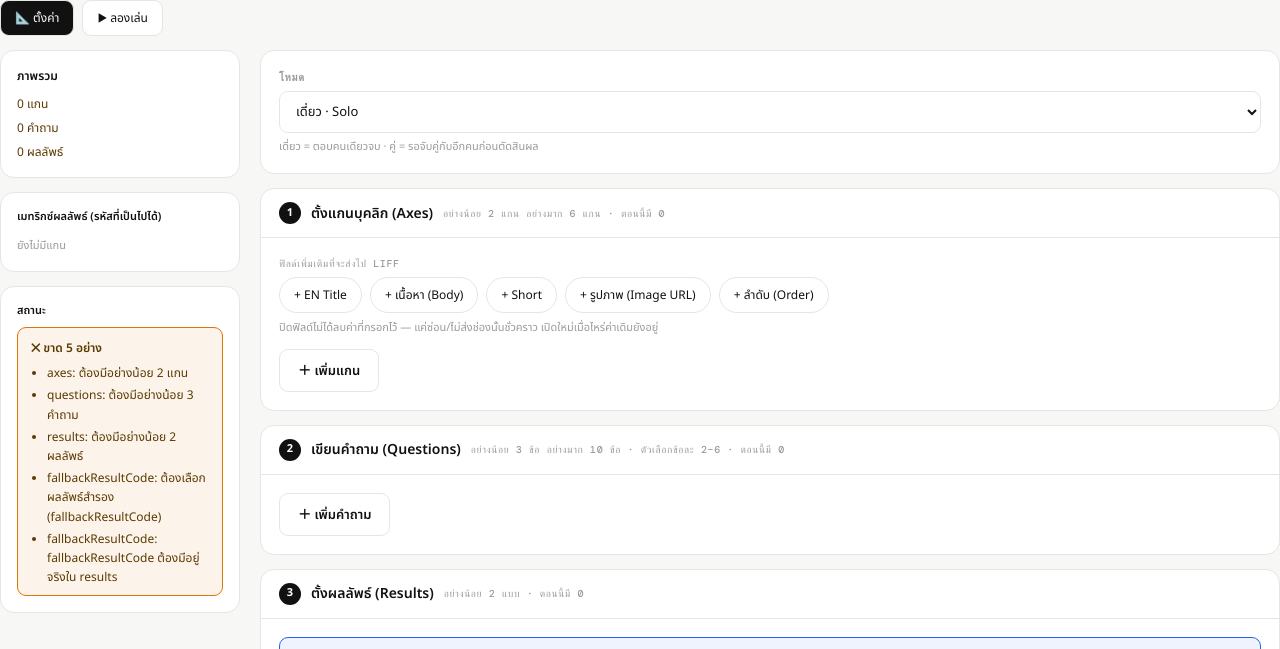
it: ฟิลด์เสริมของแกน (labelEn/body/short/imageUrl/order) — ปุ่ม toggle ระดับทั้งลิสต์ › พิมพ์ค่าใน EN Title แล้วปิดปุ่ม toggle — ช่องหายไปแต่ค่าที่กรอกไว้ยังอยู่ใน config ที่จะส่ง
Click the button "＋ เพิ่มแกน" at (329, 370), box [279,349,379,392]
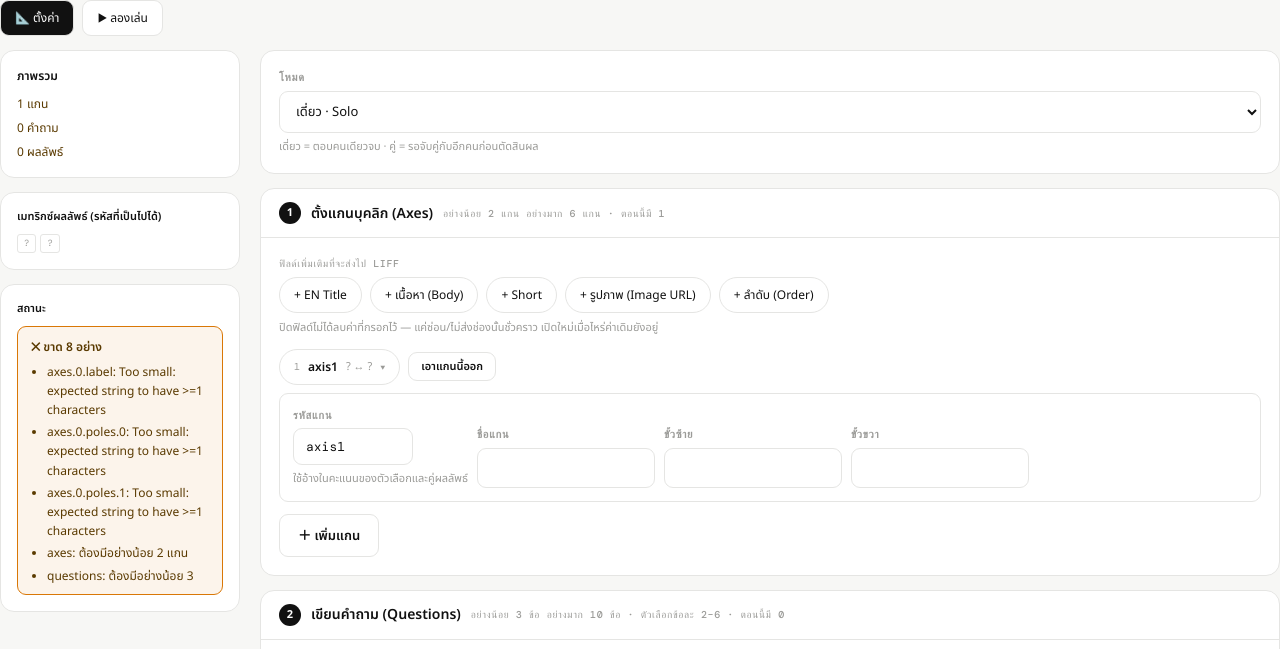
Click the button "+ EN Title" at (320, 295), box [279,277,362,313]
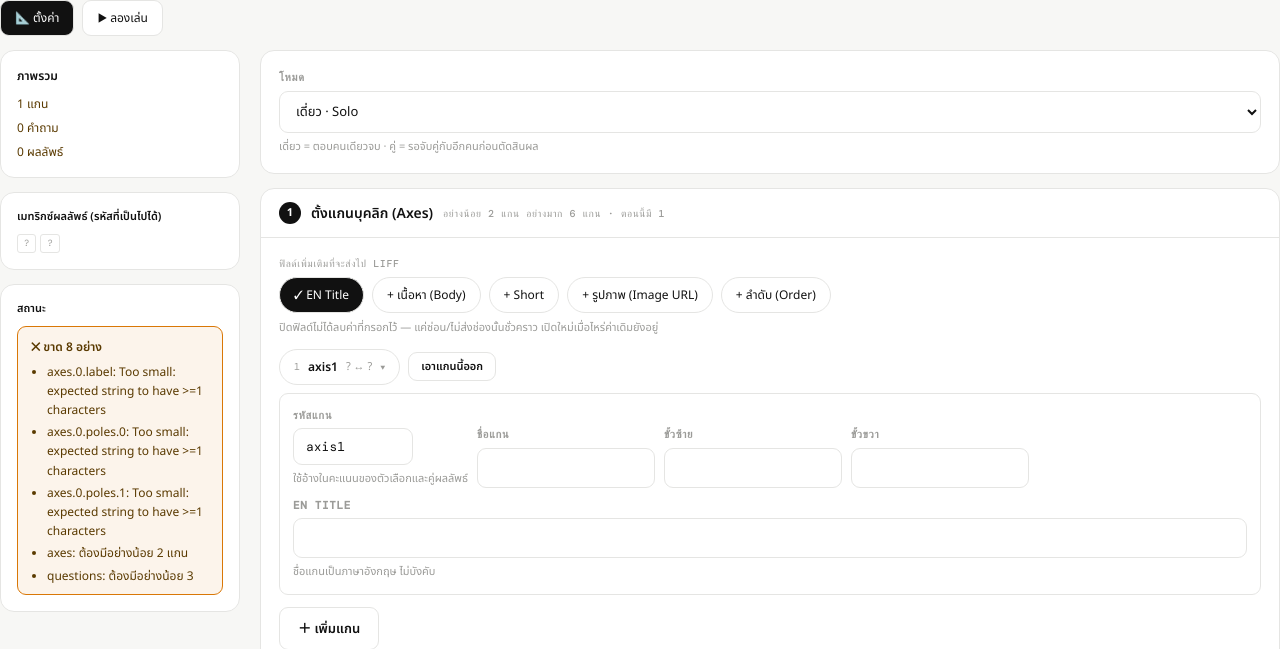
Type "THE THINKER" into the field labelled "EN Title" at (770, 538), box [293,518,1247,558]
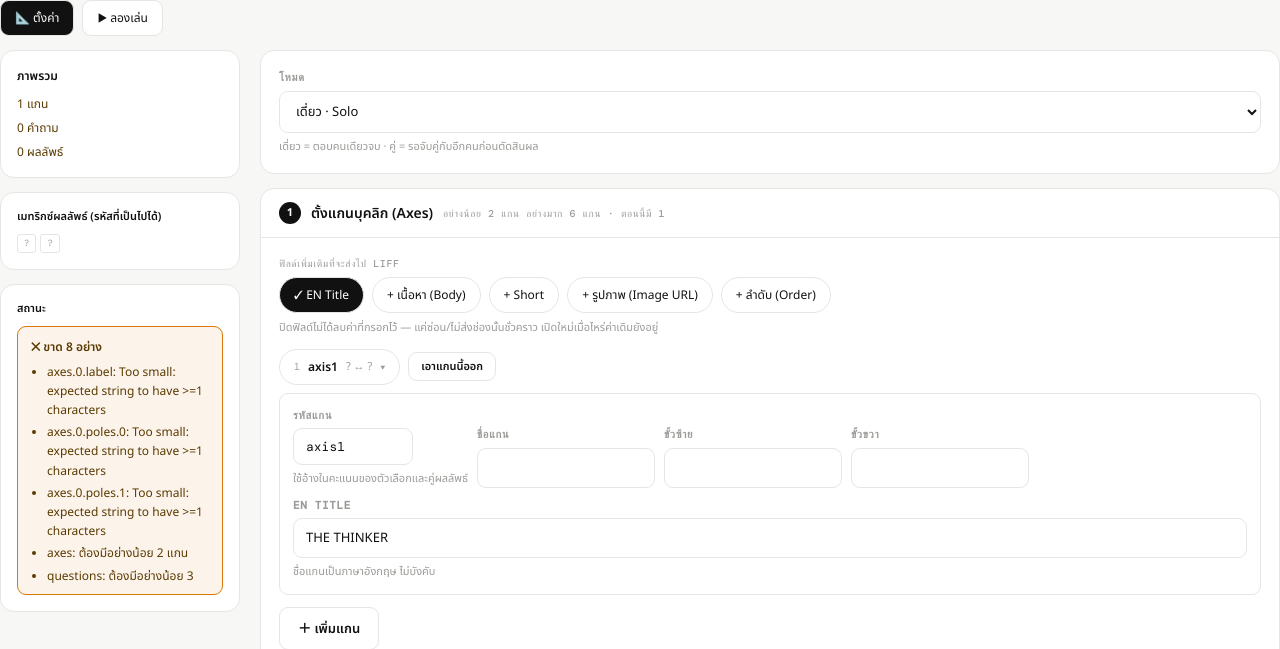
ปิด toggle — ช่องกรอกหายไปจากจอ
Click the button "✓ EN Title" at (322, 295), box [279,277,364,313]
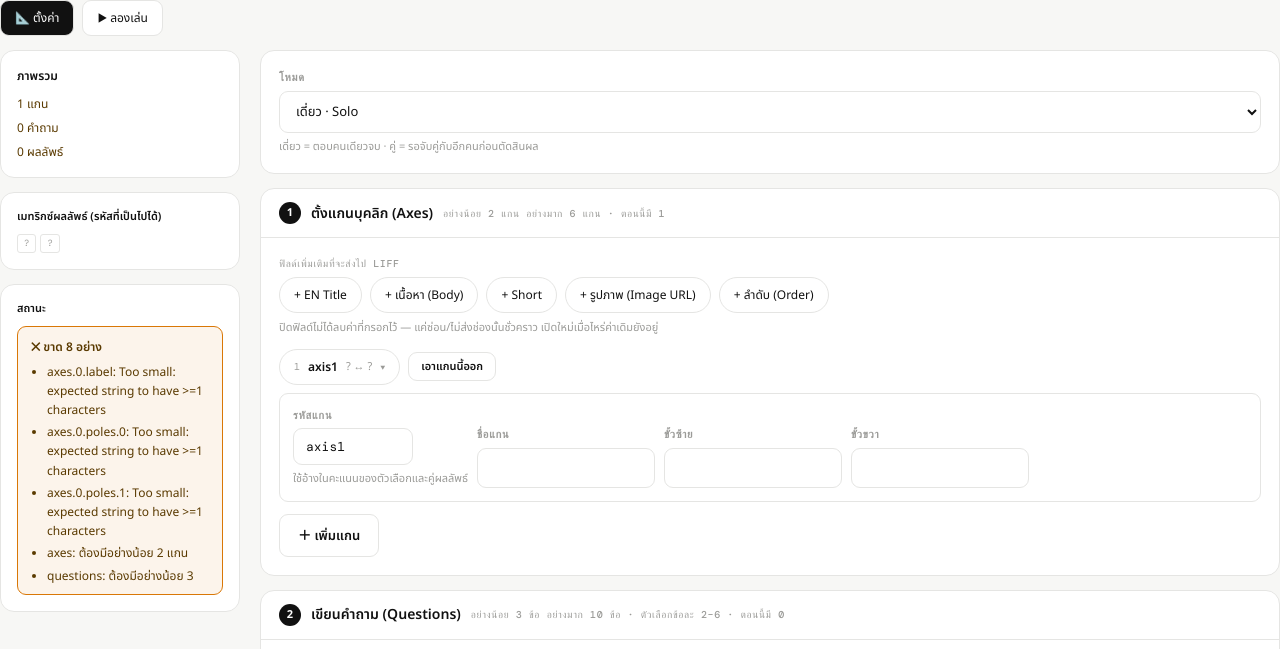
เปิดใหม่ — ค่าเดิมยังอยู่ในช่องกรอก ไม่ได้หายไปตอนซ่อน
Click the button "+ EN Title" at (320, 295), box [279,277,362,313]
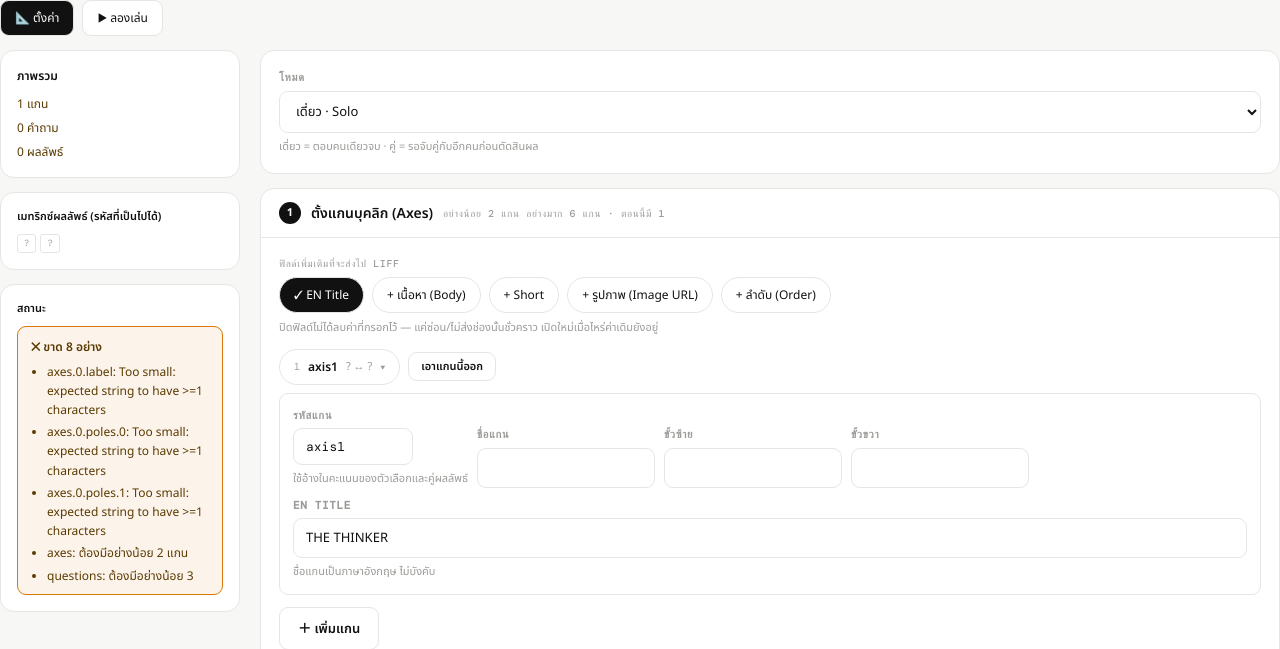
Expected: the field labelled "EN Title" holds "THE THINKER", [293,518,1247,558]
